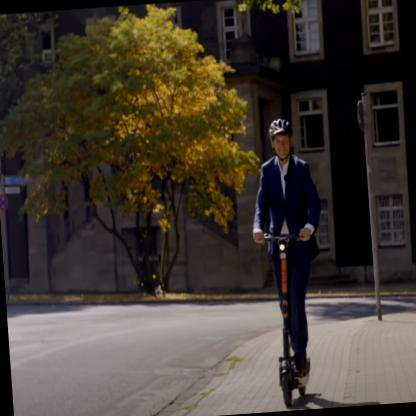helmet: (265, 115, 298, 165)
human: (252, 117, 316, 389)
kickboard: (278, 362, 317, 410)
